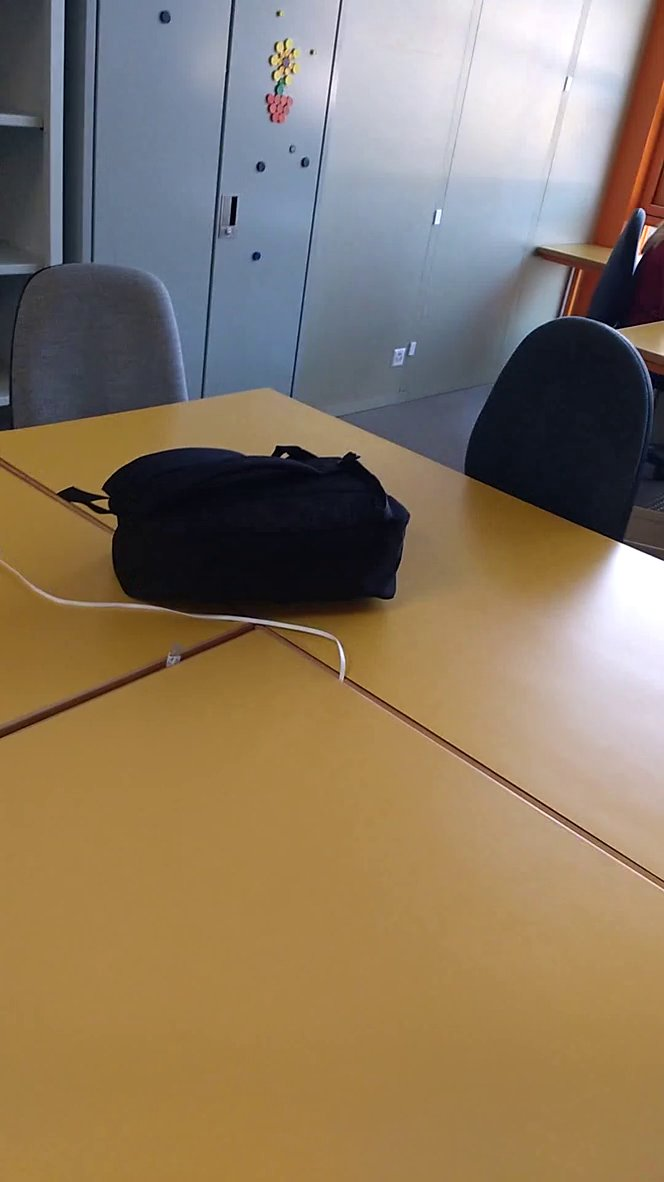bag: (49, 433, 417, 624)
chair: (446, 302, 664, 555), (2, 253, 198, 439)
